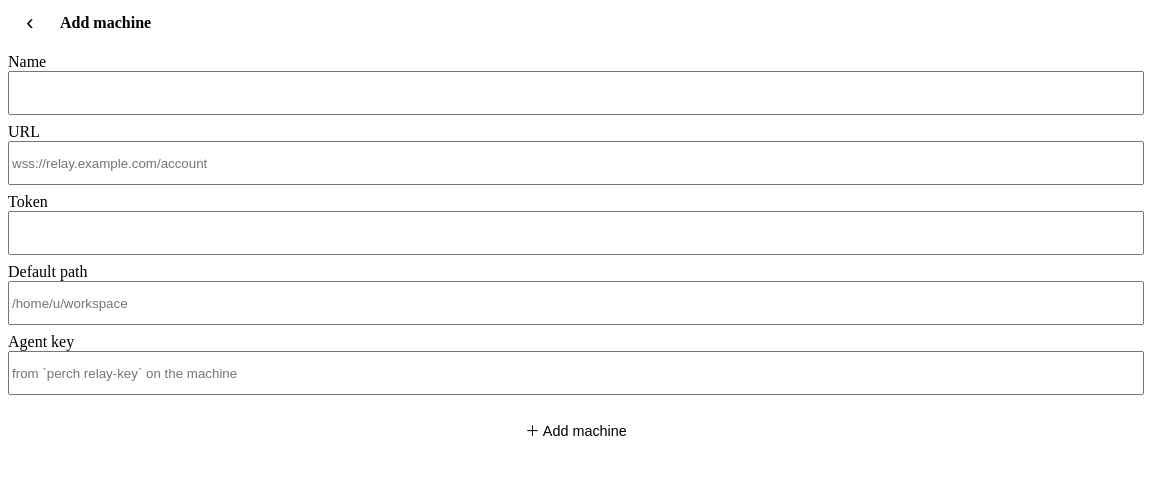
it: AddMachine › refuses a machine with a malformed agent key, and says why
Type "Dev" into the field labelled "Name" at (576, 93), box [8,71,1144,115]
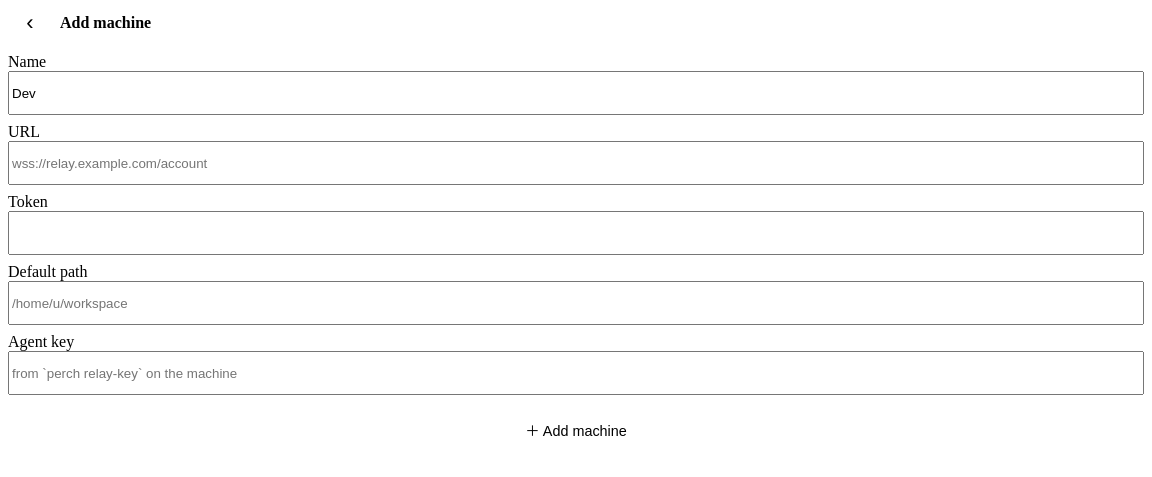
Type "wss://relay/acct" into the field labelled "URL" at (576, 163), box [8,141,1144,185]
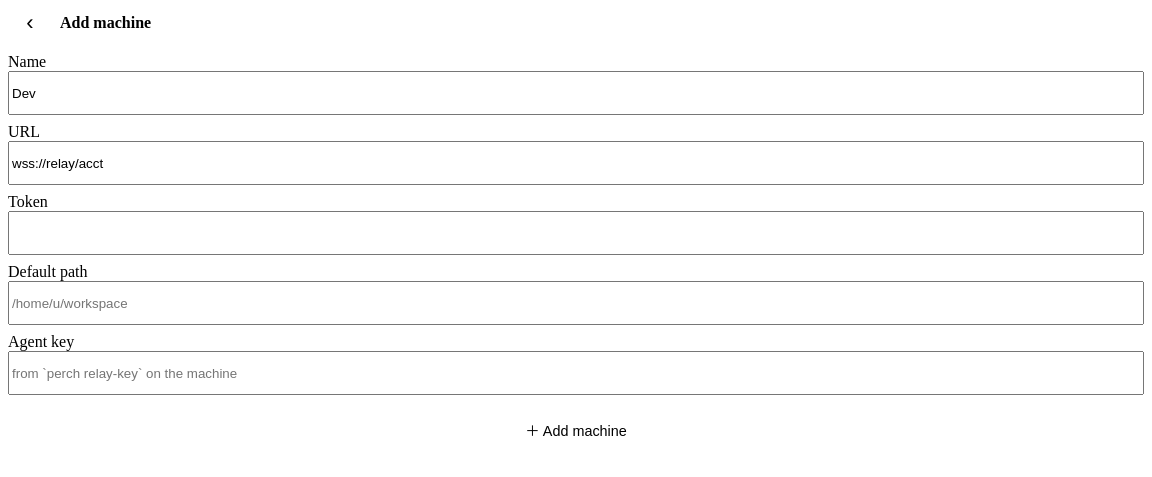
Type "sek" into the password field labelled "Token" at (576, 233), box [8,211,1144,255]
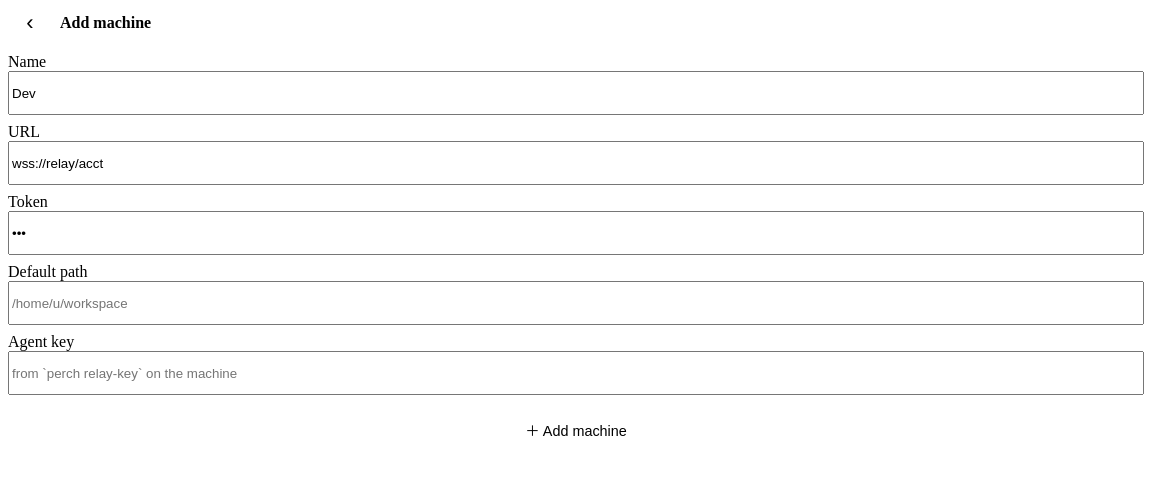
Type "not-a-key" into the field labelled "Agent key" at (576, 373), box [8,351,1144,395]
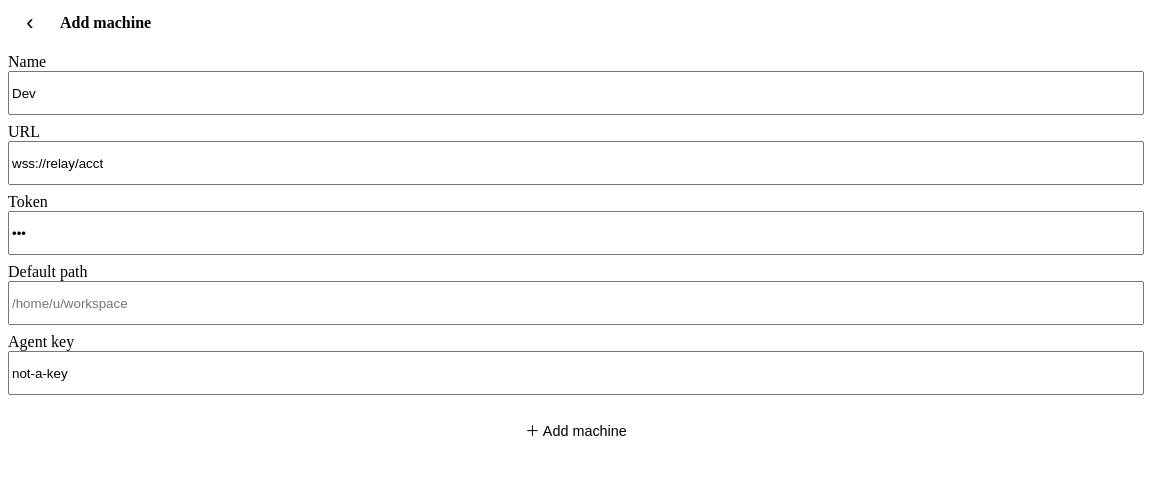
Click the button "＋ Add machine" at (576, 429), box [8,407,1144,451]
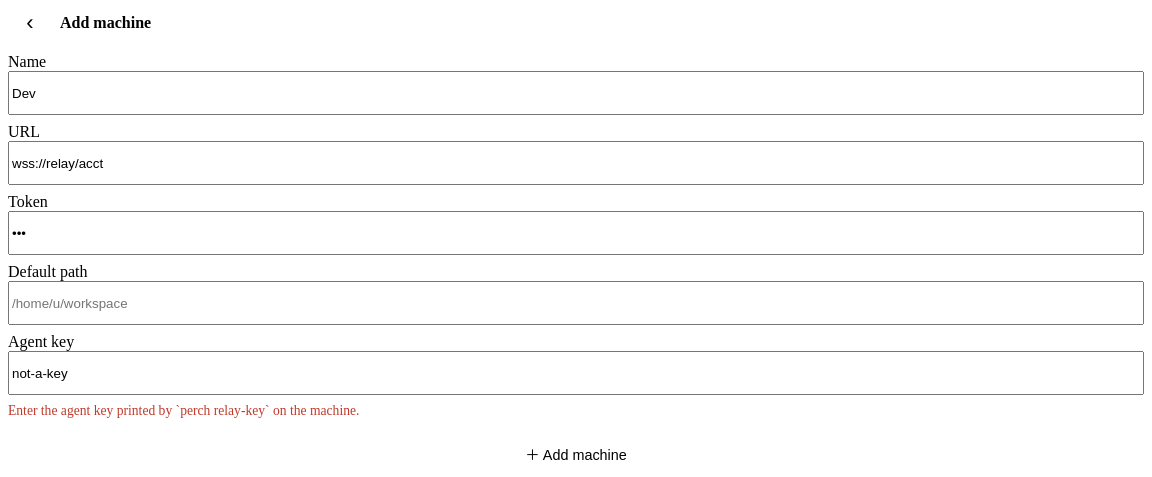
Result: the message shows "agent key" at [8,403,359,418]
